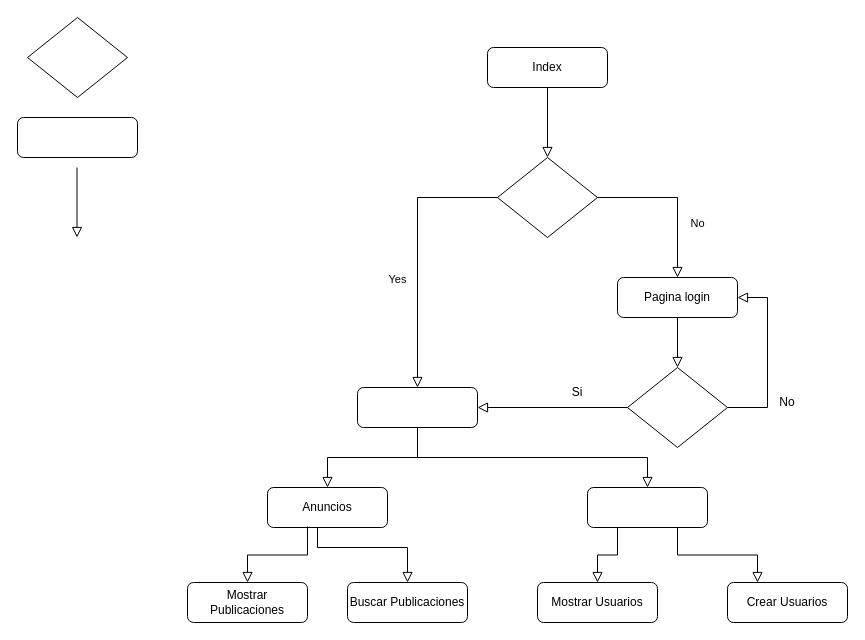
Image size: 865x640. Some labels were removed from this diagram. Each missing label, with the box of its shape:
Pagina Principal: (356, 386, 478, 428)
Usuarios: (586, 486, 708, 528)
¿Datos Correctos?: (626, 366, 728, 448)
¿Existe sesion?: (496, 156, 598, 238)
